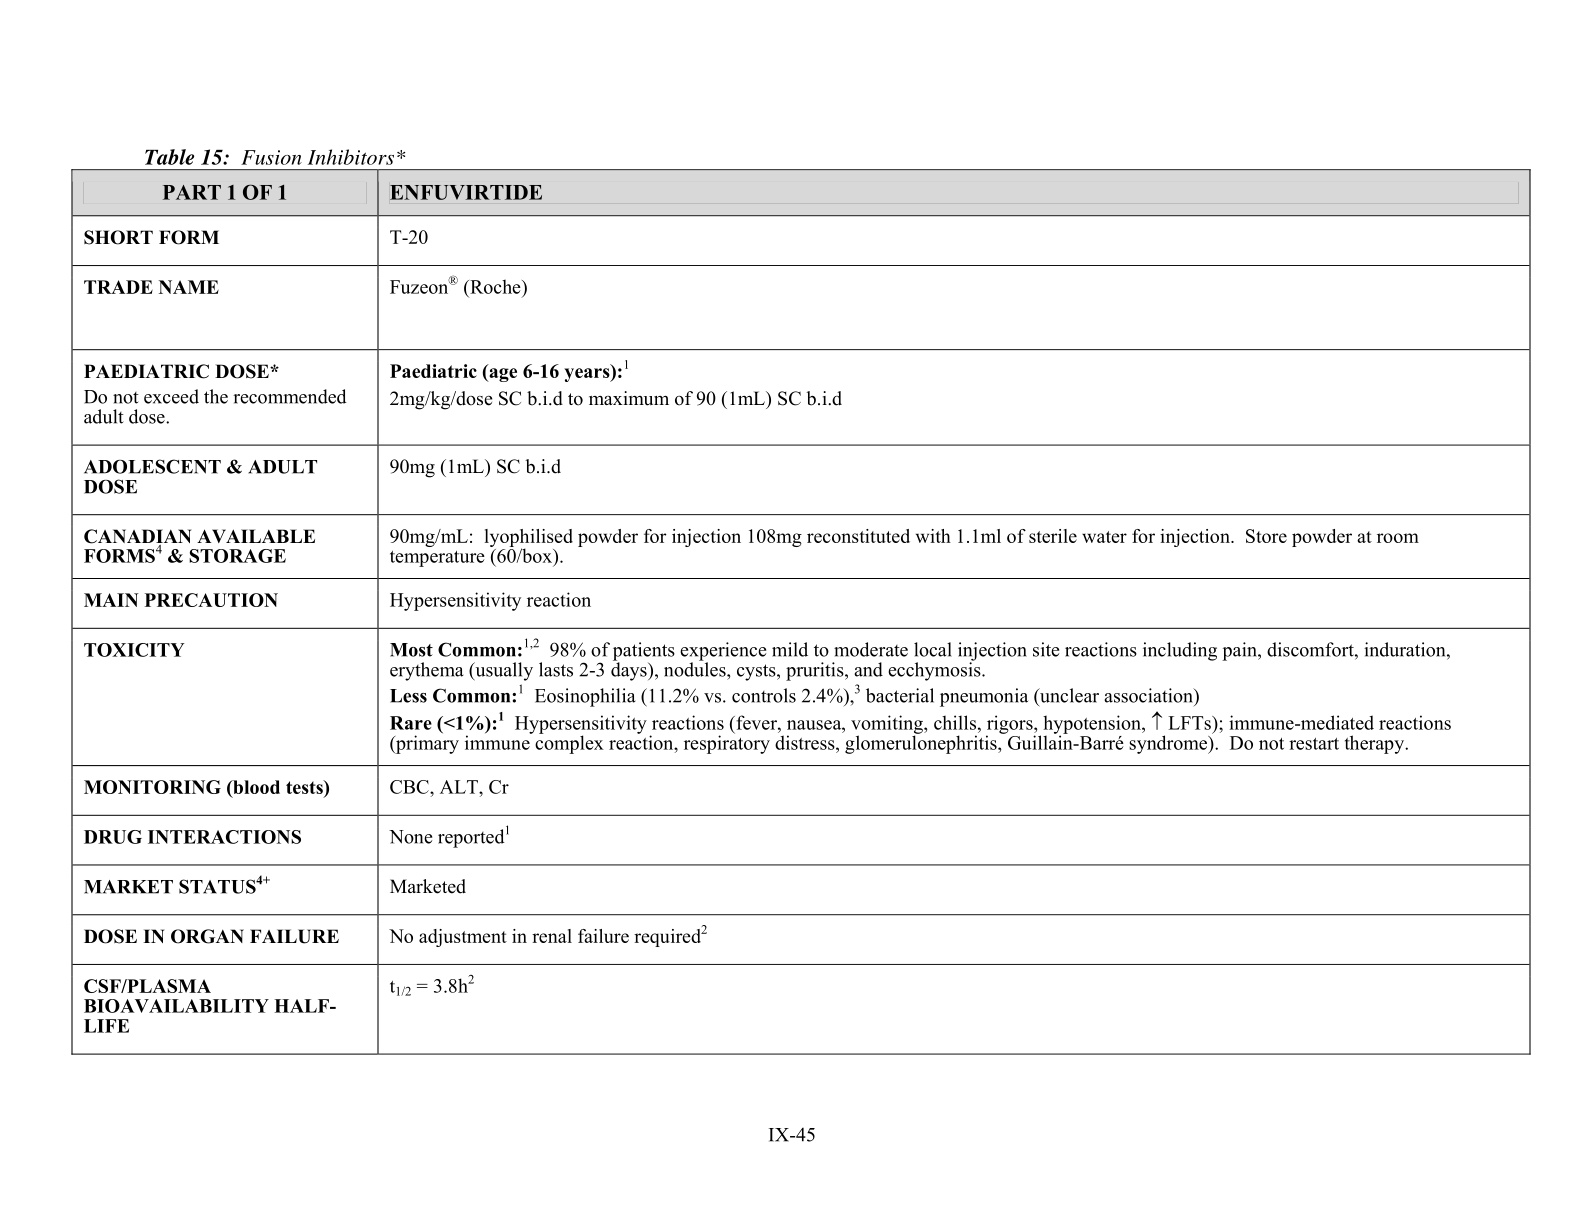full_lined: (69, 168, 1531, 1056)
